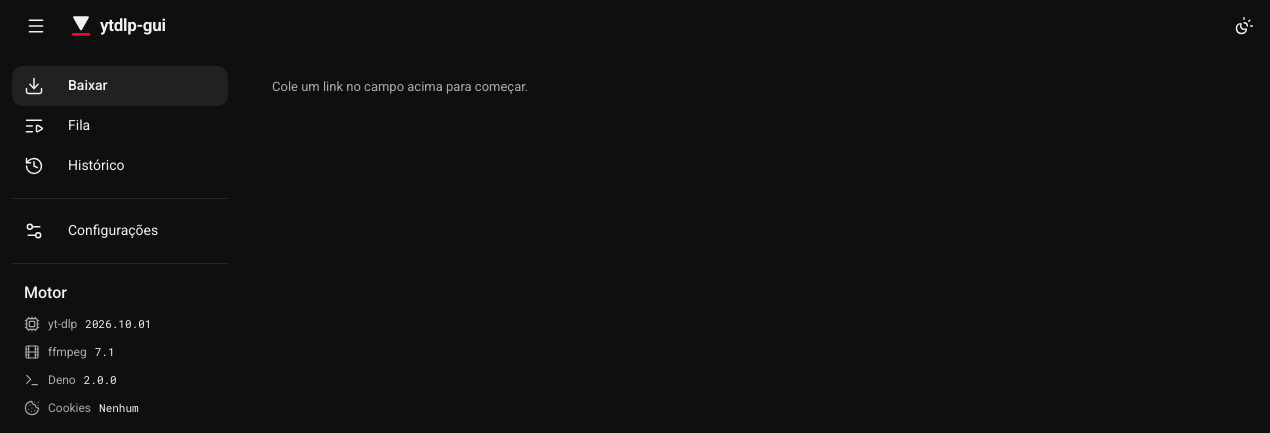
App shell › shows the Queue screen title when "Fila" is clicked in the sidebar
Click the button "Fila" at (120, 126), box [12,106,228,146]
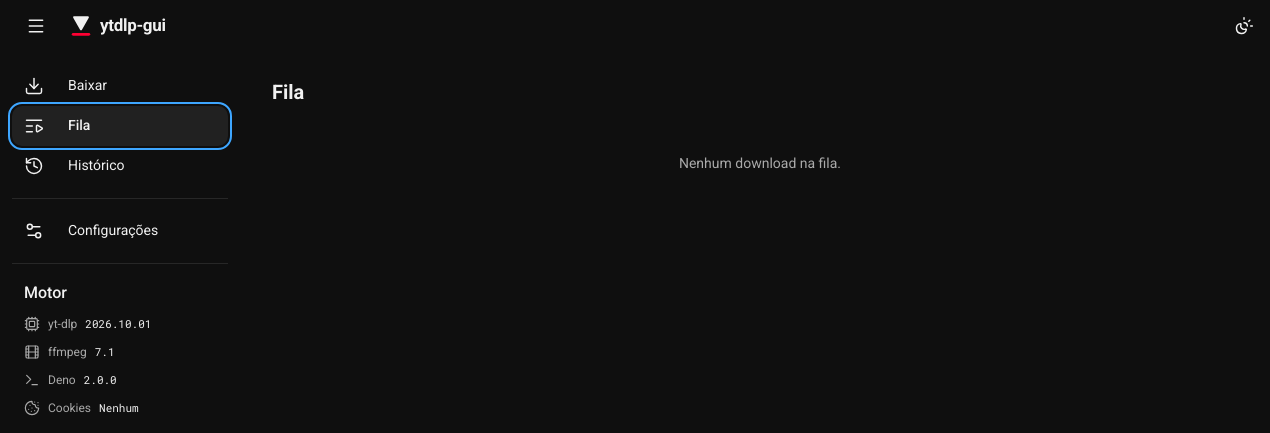
Expected: the heading "Fila" is shown, [272,78,304,106]
